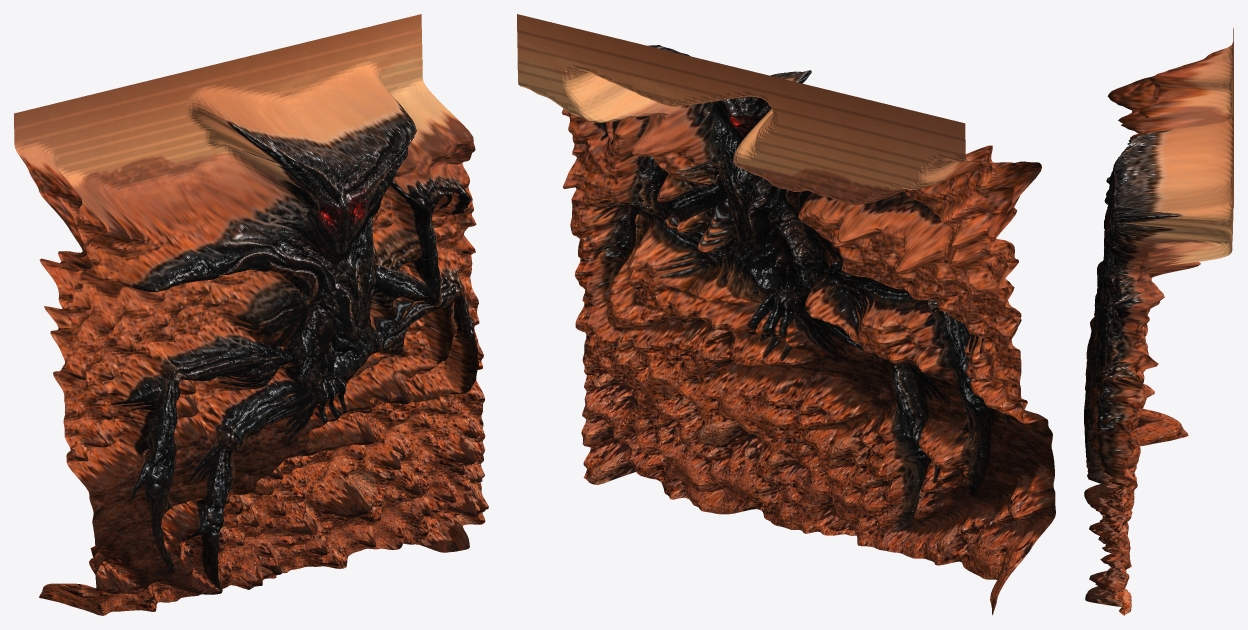
File: alien-textured-depth-mesh.obj
3 views of the same model, side by side, from view 1: azimuth 30°, elevation 25°; view 2: azimuth 150°, elevation 25°; view 3: azimuth 270°, elevation 25° (orthographic). The views are drawn at different scales.
Parts seen in each view (by area): view 1: alien_textured_depth_mesh; view 2: alien_textured_depth_mesh; view 3: alien_textured_depth_mesh.
Boxes of the visible parts, bbox=[...] form: alien_textured_depth_mesh: bbox=[14, 14, 488, 615]; alien_textured_depth_mesh: bbox=[517, 14, 1055, 615]; alien_textured_depth_mesh: bbox=[1084, 27, 1233, 615].
Size of the model in its own units: 1.83 by 2 by 0.6435.
Materials: 1 (1 with a texture image).
